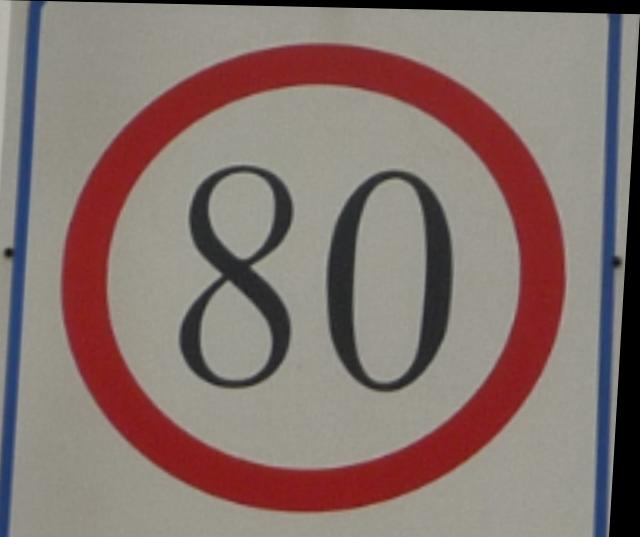limit80: (41, 28, 592, 526)
